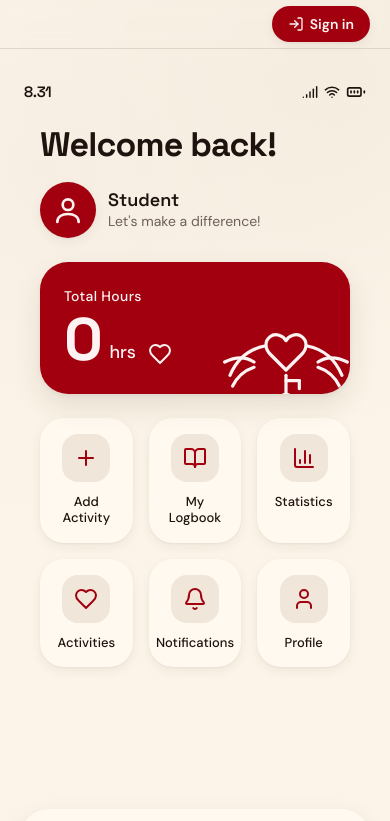
Test: App navigation wiring › navigates to a quick-action screen and back to home without dead ends
Click the button "Add Activity".
click(86, 480)  # box [40, 418, 133, 542]
(page scrolled)
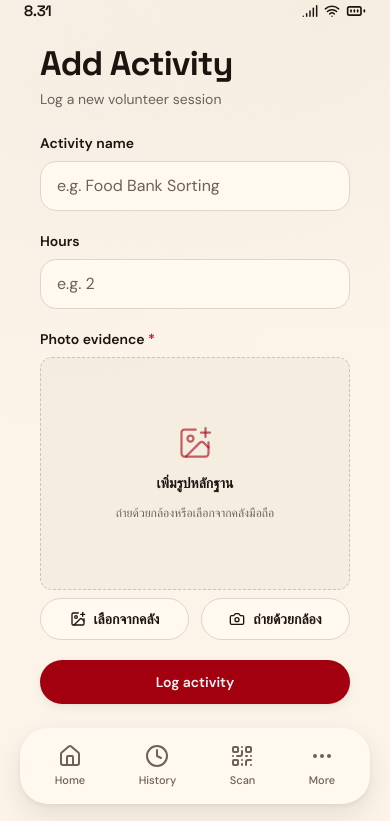
Result: the heading "Add Activity" is shown at [40, 42, 233, 84]
# The bottom nav remains reachable from a sub-screen.
Click the button "Home".
click(70, 766)  # box [43, 740, 97, 792]
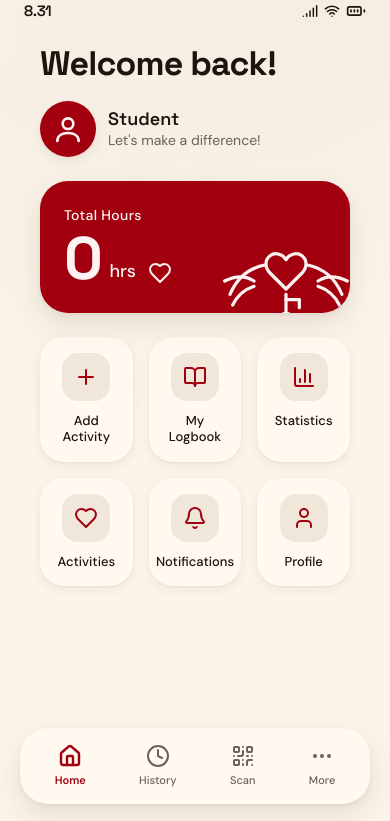
Result: the heading "Welcome back!" is shown at [40, 42, 276, 84]
